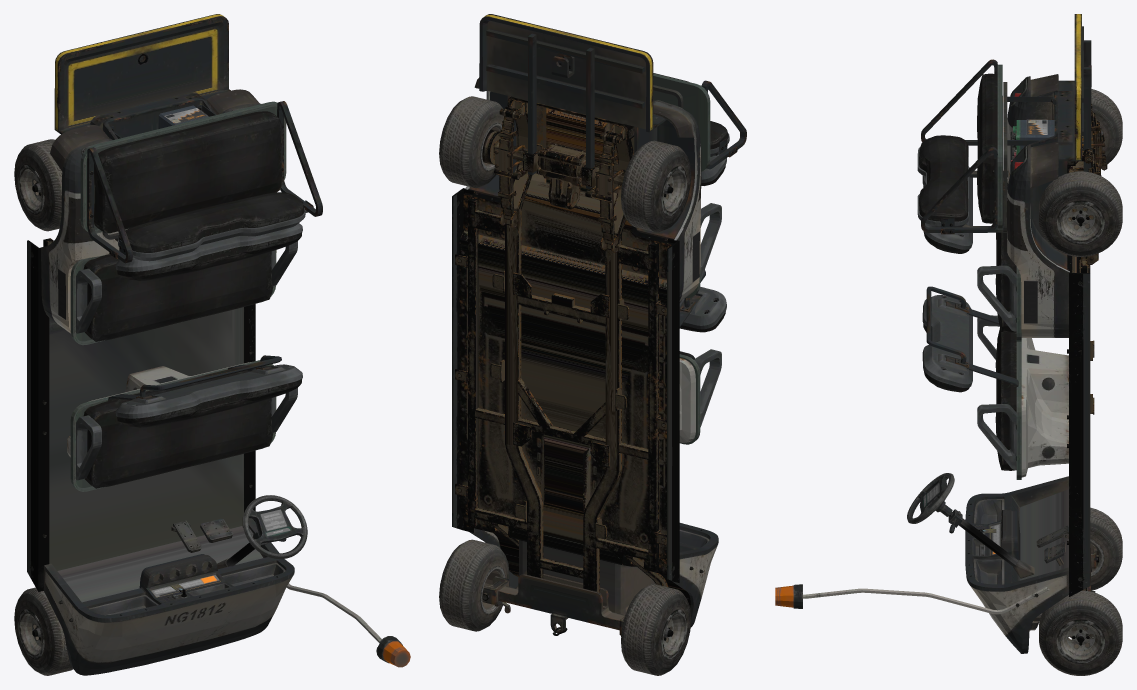
File: Xe điện.glb
The picture shows the model from 3 angles, left to right: view 1: azimuth 30°, elevation 25°; view 2: azimuth 150°, elevation 25°; view 3: azimuth 270°, elevation 25°; orthographic projection. The views are drawn at different scales.
Parts seen in each view (by area): view 1: part_2_Object_25, part_9_Object_6, part_10_Object_3, part_5_Object_15, part_8_Object_10; view 2: part_0_Object_27, part_2_Object_25, part_10_Object_3, part_9_Object_6; view 3: part_2_Object_25, part_10_Object_3, part_9_Object_6, part_0_Object_27, part_8_Object_10, part_5_Object_15, part_4_Object_18.
Boxes of the visible parts, x1=… form: part_2_Object_25: x1=27, y1=89, x2=322, y2=675; part_9_Object_6: x1=54, y1=14, x2=230, y2=134; part_10_Object_3: x1=14, y1=139, x2=73, y2=675; part_5_Object_15: x1=58, y1=108, x2=290, y2=597; part_8_Object_10: x1=286, y1=583, x2=402, y2=663; part_0_Object_27: x1=455, y1=96, x2=690, y2=607; part_2_Object_25: x1=452, y1=56, x2=746, y2=636; part_10_Object_3: x1=439, y1=96, x2=691, y2=675; part_9_Object_6: x1=479, y1=14, x2=666, y2=189; part_2_Object_25: x1=907, y1=59, x2=1098, y2=653; part_10_Object_3: x1=1039, y1=89, x2=1122, y2=675; part_9_Object_6: x1=1058, y1=14, x2=1091, y2=171; part_0_Object_27: x1=1067, y1=104, x2=1107, y2=590; part_8_Object_10: x1=793, y1=584, x2=1049, y2=614; part_5_Object_15: x1=923, y1=119, x2=1047, y2=555; part_4_Object_18: x1=1010, y1=120, x2=1054, y2=162.
Bounding box in the file's own units: 1.53 × 4.08 × 2.22.
5 materials, 5 textured.
